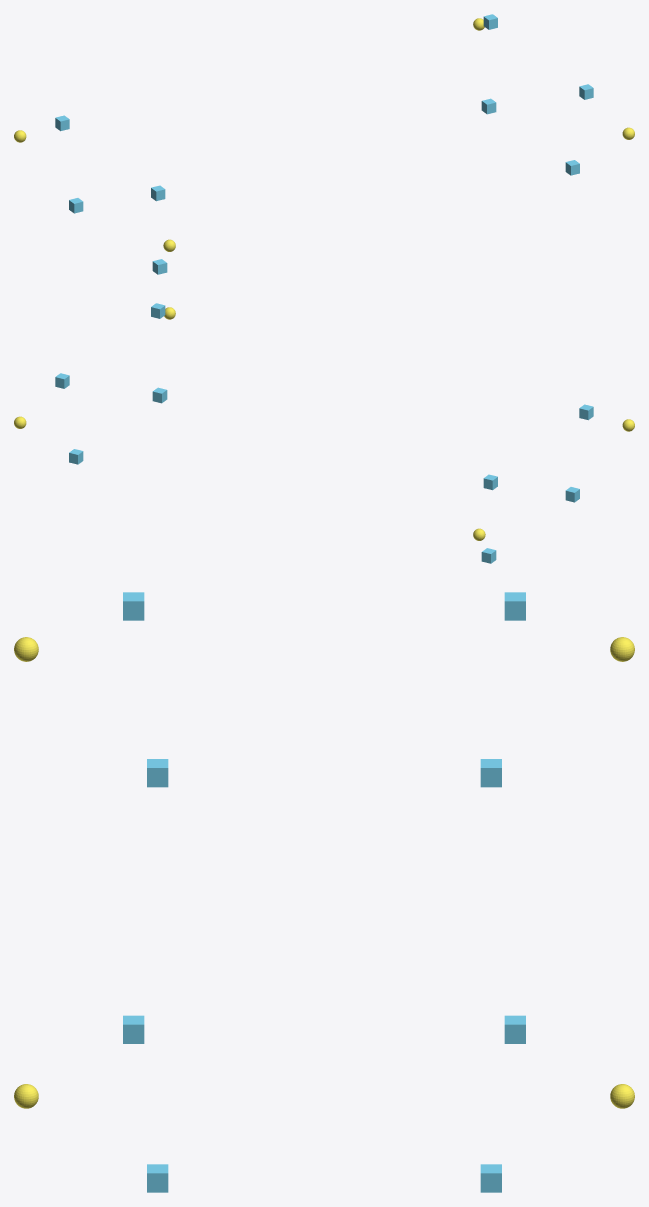
File: hardpoints.glb
3 views of the same model, one above another, from view 1: azimuth 30°, elevation 25°; view 2: azimuth 150°, elevation 25°; view 3: azimuth 270°, elevation 25° (orthographic). The views are drawn at different scales.
Size of the model in its own units: 3.05 by 0.565 by 1.75.
